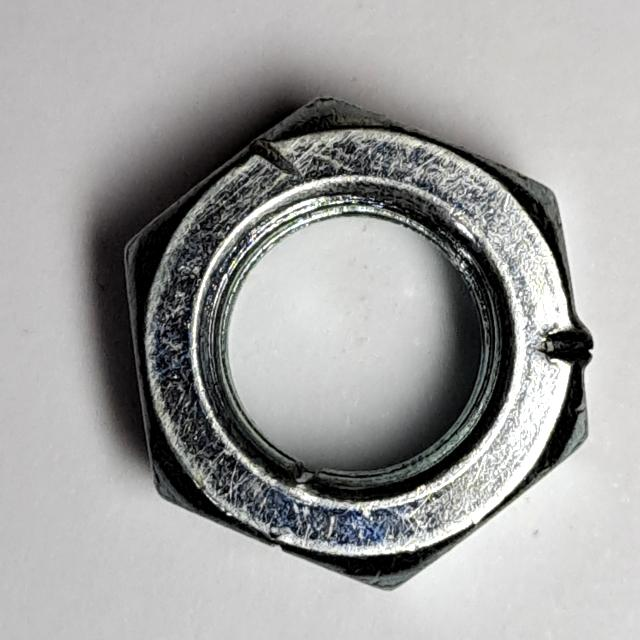Scratches: (100, 79, 609, 606)
